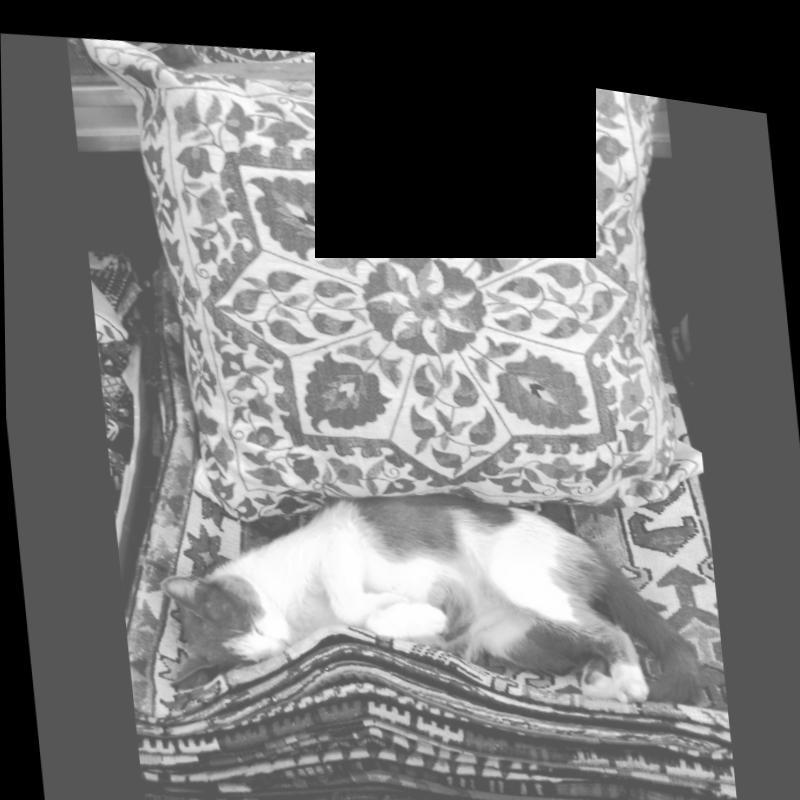pillow: (89, 219, 735, 800), (72, 8, 708, 555)
